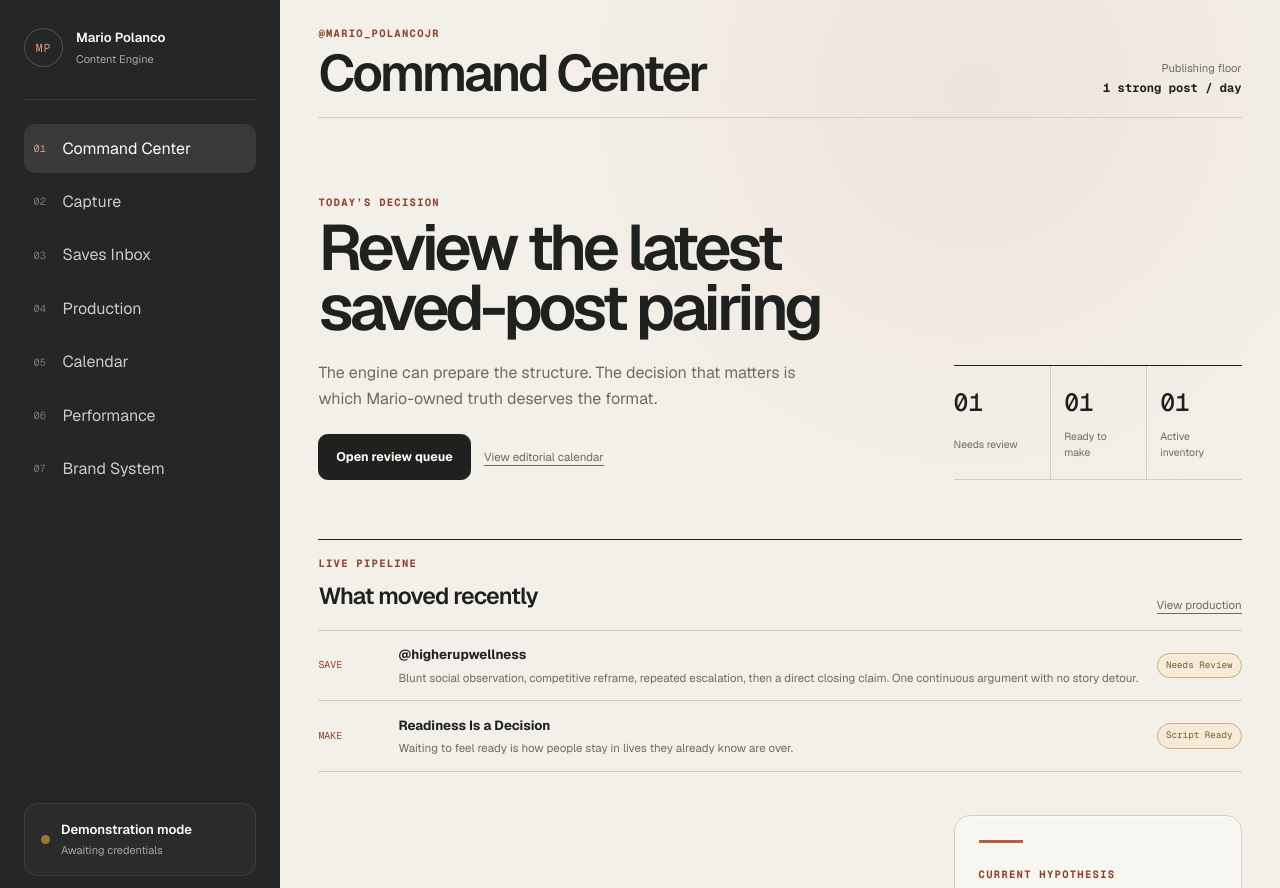
Test: Production package instructions › shows the Mario source and saved creator as two different influences
The width and height of the screenshot is (1280, 888).
Click the button "04 Production": {"x": 140, "y": 309} top-left (24, 284), bottom-right (256, 333)
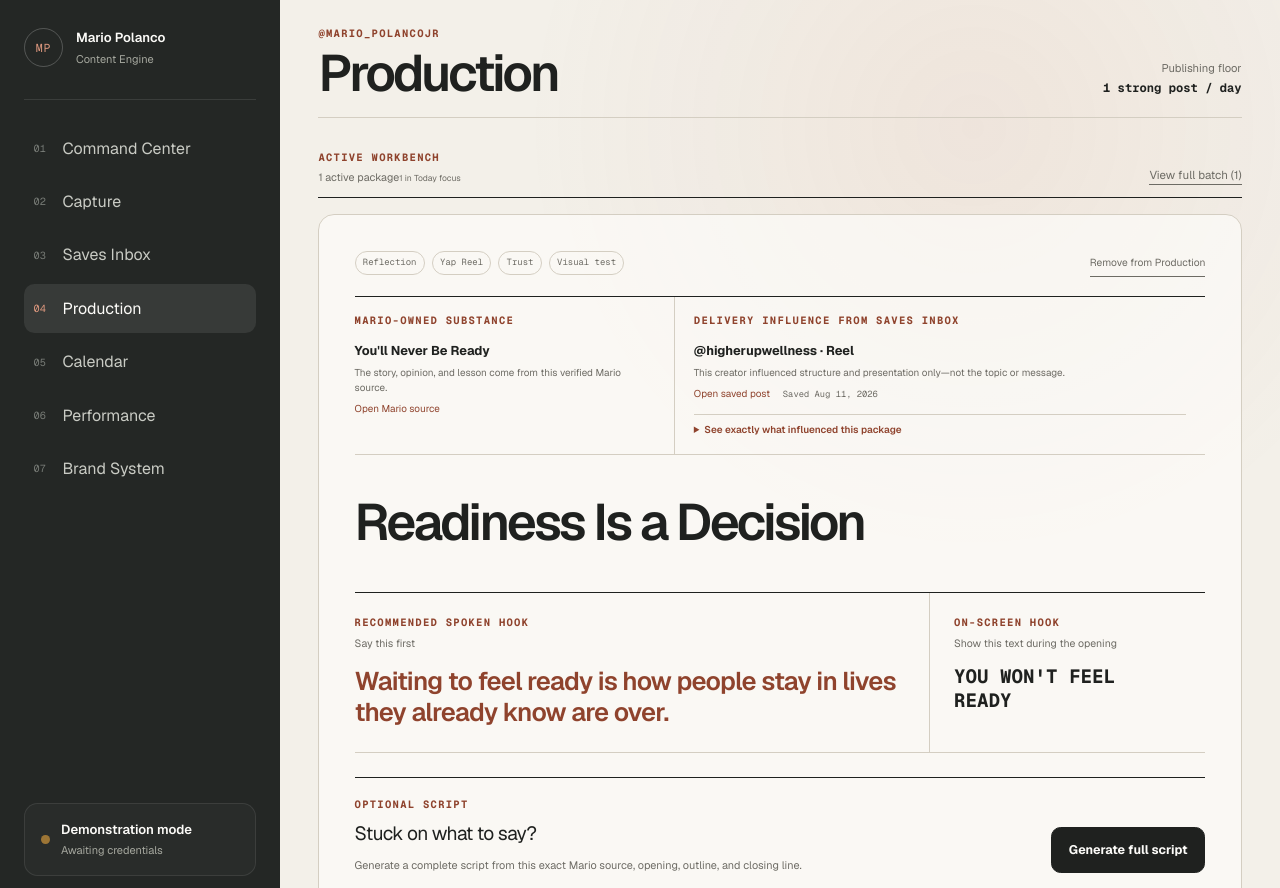
Result: the text "Mario-owned substance" is shown at top-left (355, 313), bottom-right (514, 327)
Result: the text "You'll Never Be Ready" is shown at top-left (355, 342), bottom-right (490, 359)
Result: the text "Delivery influence from Saves Inbox" is shown at top-left (694, 313), bottom-right (960, 327)
